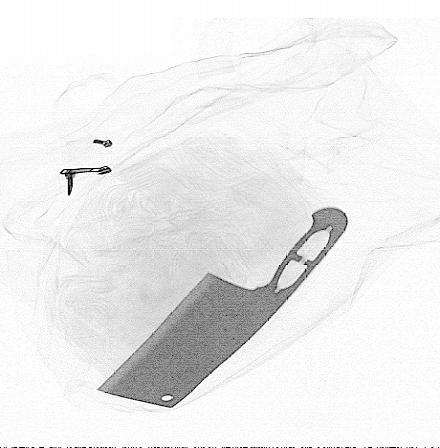Knife: (95, 205, 350, 410)
